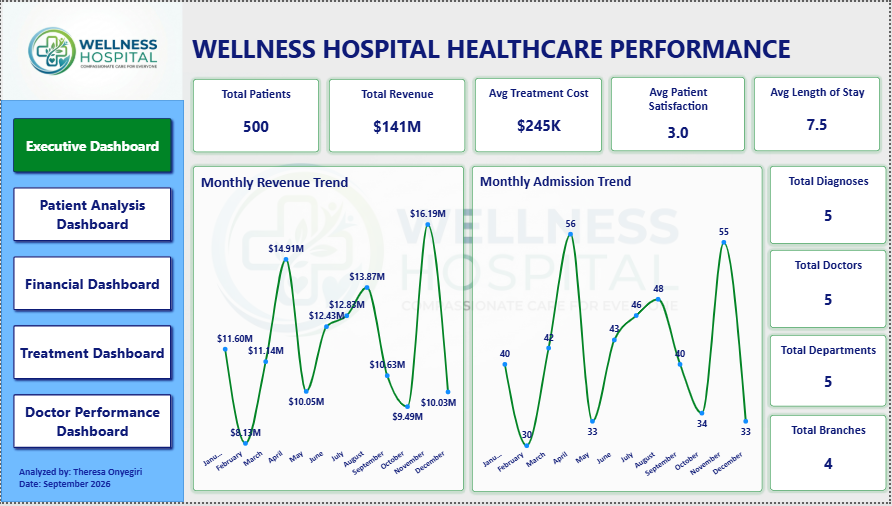

What the dashboard file says about the page in this screenshot:
{"tool":"powerbi","page":{"name":"Executive Dashboard","canvas":[1920,1080],"ordinal":0},"visuals":[{"type":"shape","box":[0,211.7,395.3,868.3],"z":0},{"type":"card","title":"Total Patients","fields":{"Values":["Table1.Total Patients"]},"box":[414.7,166.3,271.7,158.5],"z":1000},{"type":"card","title":"Total Revenue","fields":{"Values":["Table1.Total Revenue"]},"box":[708.5,166.3,294.3,158.5],"z":2000},{"type":"card","title":"Avg Treatment Cost","fields":{"Values":["Table1.Avg Treatment Cost"]},"box":[1023.8,164.2,274.3,159.8],"z":3000},{"type":"card","title":"Avg Patient Satisfaction","fields":{"Values":["Table1.Avg Patient Satisfaction"]},"box":[1317.6,162,289.4,159.8],"z":4000},{"type":"card","title":"Avg Length of Stay","fields":{"Values":["Table1.Avg Length of Stay"]},"box":[1626.5,162,272.2,159.8],"z":5000},{"type":"card","title":"Total Departments","fields":{"Values":["Table1.Total Departments"]},"box":[1661.9,720,251.3,154],"z":6000},{"type":"card","title":"Total Branches","fields":{"Values":["Table1.Total Hospital Branches"]},"box":[1661.9,892.1,251.3,163],"z":7000},{"type":"card","title":"Total Diagnoses","fields":{"Values":["Table1.Total Diagnoses"]},"box":[1661.9,353.2,251.3,167.5],"z":8000},{"type":"card","title":"Total Doctors","fields":{"Values":["Table1.Total Doctors"]},"box":[1661.9,536.6,251.3,167.5],"z":9000},{"type":"textbox","box":[352.1,25.9,1413.7,120.1],"z":10000},{"type":"image","box":[0,0,395.3,211.7],"z":11000},{"type":"pageNavigator","box":[17.3,241.9,360.7,732.2],"z":12000},{"type":"lineChart","title":"Monthly Revenue Trend","fields":{"Category":["Table1.Admission_Month"],"Y":["Table1.Total Revenue"]},"box":[414.7,354.2,585.4,702],"z":13000},{"type":"lineChart","title":"Monthly Admission Trend","fields":{"Y":["Table1.Total Patients"],"Category":["Table1.Admission_Month"]},"box":[1016.6,353.2,627.2,704.2],"z":14000},{"type":"textbox","box":[38.3,1001.3,312.5,78.7],"z":14001}]}

Visuals, with their boxes in screenshot pixels (x1, y1, x2, y2), scaled from the page's 1920x1080 canvas onto the 892x506 screenshot:
shape: 0, 99, 184, 505
"Total Patients" card: 193, 78, 319, 152
"Total Revenue" card: 329, 78, 466, 152
"Avg Treatment Cost" card: 476, 77, 603, 152
"Avg Patient Satisfaction" card: 612, 76, 747, 151
"Avg Length of Stay" card: 756, 76, 882, 151
"Total Departments" card: 772, 337, 889, 409
"Total Branches" card: 772, 418, 889, 494
"Total Diagnoses" card: 772, 165, 889, 244
"Total Doctors" card: 772, 251, 889, 330
textbox: 164, 12, 820, 68
image: 0, 0, 184, 99
pageNavigator: 8, 113, 176, 456
"Monthly Revenue Trend" lineChart: 193, 166, 465, 495
"Monthly Admission Trend" lineChart: 472, 165, 764, 495
textbox: 18, 469, 163, 505
